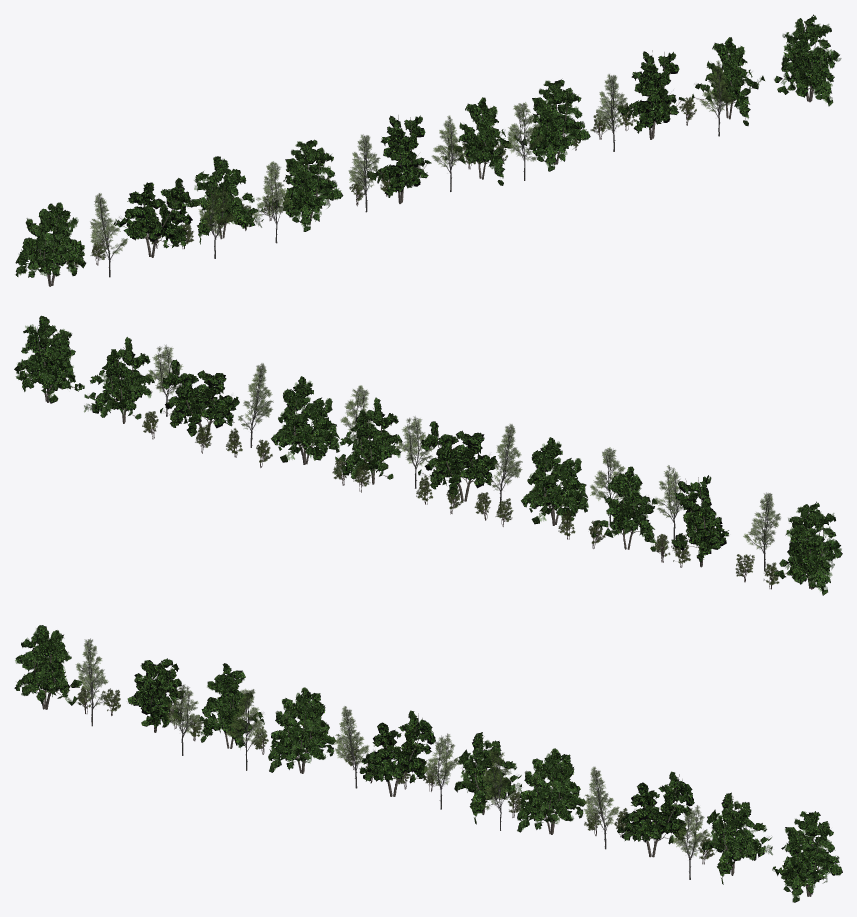
File: trees.glb
3 renders of one model, top to bottom at view 1: azimuth 30°, elevation 25°; view 2: azimuth 150°, elevation 25°; view 3: azimuth 330°, elevation 25°, orthographic.
Parts seen in each view (by area): view 1: UBH Trees.Shape, UBH Trees.Shape_MountainMaple_Low_MountainMapleLeaves_RT_2_M, UBH Trees.Shape_MountainMaple_Low_MountainMapleLeaves_RT_1_M; view 2: UBH Trees.Shape, UBH Trees.Shape_MountainMaple_Low_MountainMapleLeaves_RT_2_M, UBH Trees.Shape_MountainMaple_Low_MountainMapleLeaves_RT_1_M; view 3: UBH Trees.Shape, UBH Trees.Shape_MountainMaple_Low_MountainMapleLeaves_RT_2_M, UBH Trees.Shape_MountainMaple_Low_MountainMapleLeaves_RT_1_M.
Boxes of the visible parts, x1=… form: UBH Trees.Shape: x1=15, y1=14, x2=841, y2=286; UBH Trees.Shape_MountainMaple_Low_MountainMapleLeaves_RT_2_M: x1=90, y1=61, x2=733, y2=253; UBH Trees.Shape_MountainMaple_Low_MountainMapleLeaves_RT_1_M: x1=90, y1=63, x2=731, y2=248; UBH Trees.Shape: x1=14, y1=315, x2=842, y2=595; UBH Trees.Shape_MountainMaple_Low_MountainMapleLeaves_RT_2_M: x1=146, y1=347, x2=780, y2=549; UBH Trees.Shape_MountainMaple_Low_MountainMapleLeaves_RT_1_M: x1=149, y1=345, x2=780, y2=548; UBH Trees.Shape: x1=14, y1=625, x2=842, y2=902; UBH Trees.Shape_MountainMaple_Low_MountainMapleLeaves_RT_2_M: x1=76, y1=639, x2=710, y2=856; UBH Trees.Shape_MountainMaple_Low_MountainMapleLeaves_RT_1_M: x1=76, y1=639, x2=706, y2=852.
Size of the model in its own units: 48.31 by 4.97 by 4.81.
17 materials, 17 textured.
